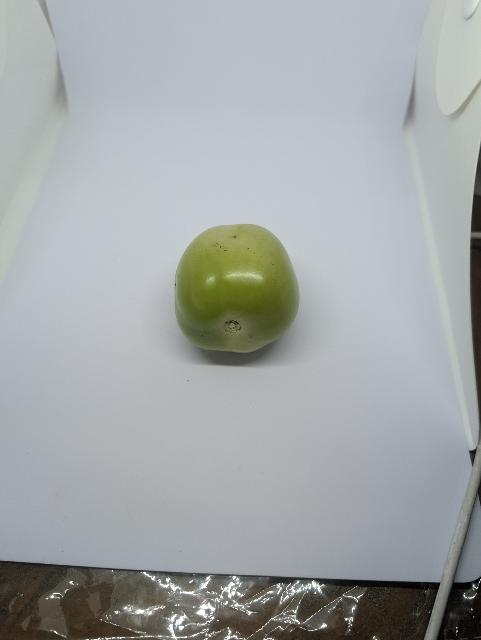green: (163, 218, 303, 364)
